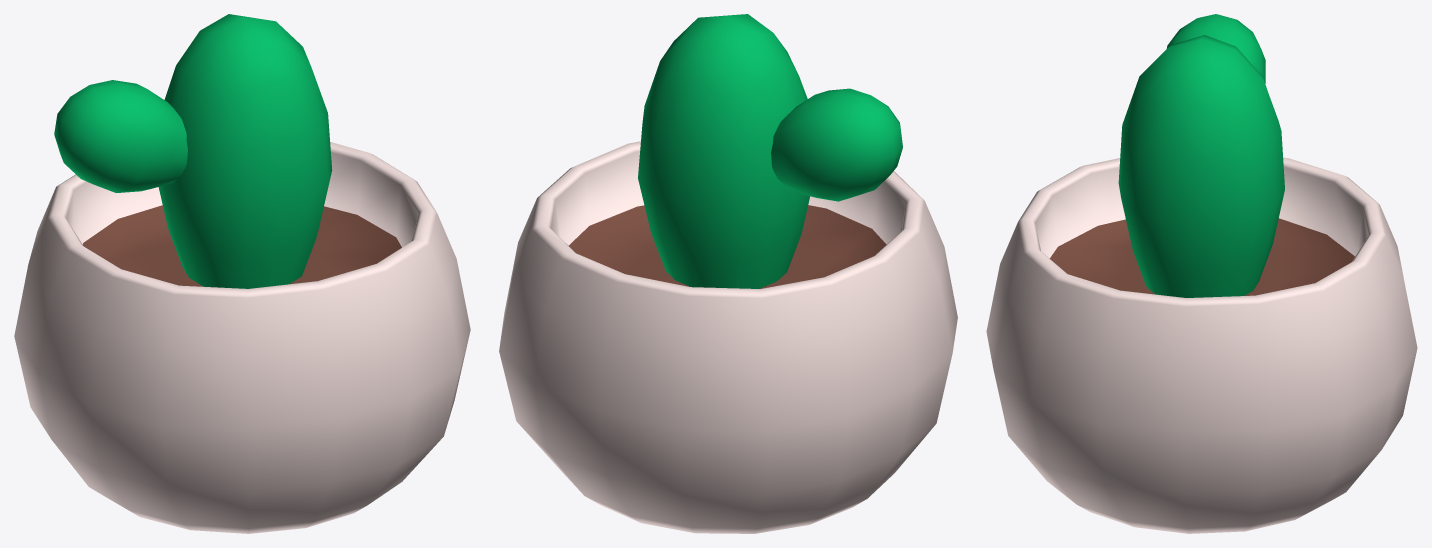
The model's file is City_9_Cactus_1.glb.
The picture shows the model from 3 angles, left to right: view 1: azimuth 30°, elevation 25°; view 2: azimuth 150°, elevation 25°; view 3: azimuth 270°, elevation 25°; orthographic projection. The views are drawn at different scales.
Visible parts, largest first — view 1: City_9_Cactus_1; view 2: City_9_Cactus_1; view 3: City_9_Cactus_1.
Part boxes in pixels (x1,y1,x2,y2): City_9_Cactus_1: [14, 14, 470, 533]; City_9_Cactus_1: [499, 14, 957, 533]; City_9_Cactus_1: [986, 14, 1417, 533].
Size of the model in its own units: 0.2896 by 0.3218 by 0.2896.
1 material, 1 textured.
